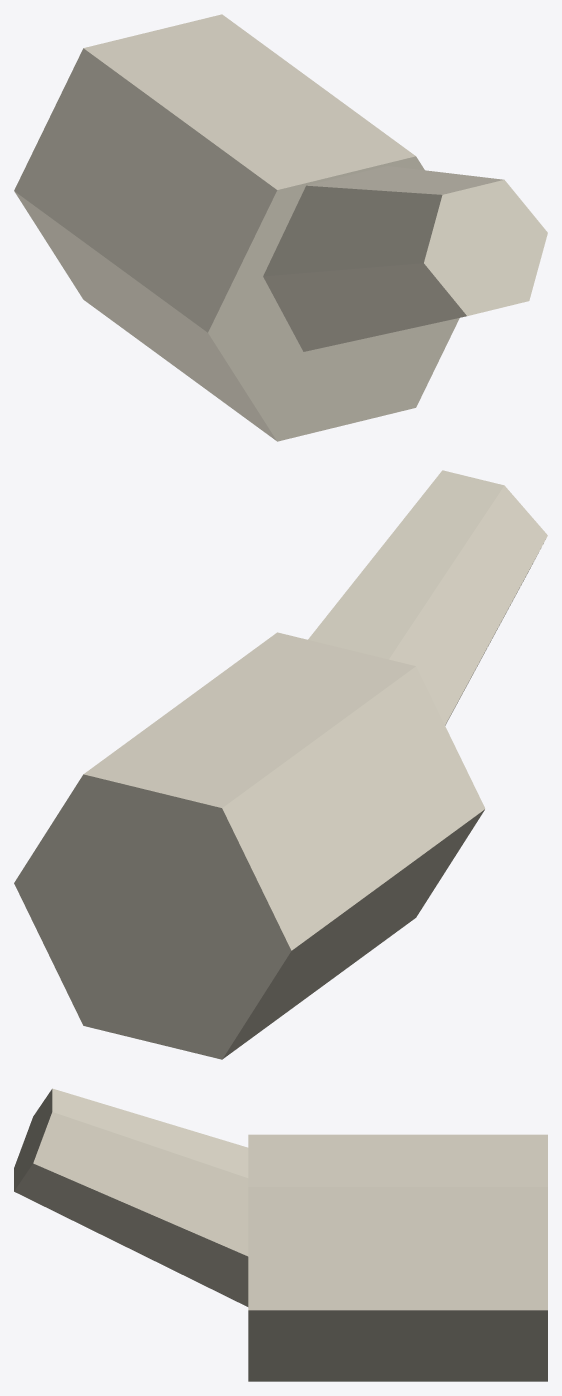
The model's file is rm2_thorax.obj.
3 views of the same model, one above another, from view 1: azimuth 30°, elevation 25°; view 2: azimuth 150°, elevation 25°; view 3: azimuth 270°, elevation 25° (orthographic). The views are drawn at different scales.
Visible parts, largest first — view 1: rm2_thorax; view 2: rm2_thorax; view 3: rm2_thorax.
Part boxes in pixels (x1=…): rm2_thorax: x1=14, y1=14, x2=547, y2=441; rm2_thorax: x1=14, y1=470, x2=547, y2=1059; rm2_thorax: x1=14, y1=1088, x2=547, y2=1381.
Size of the model in its own units: 0.38 by 0.432 by 0.8194.
